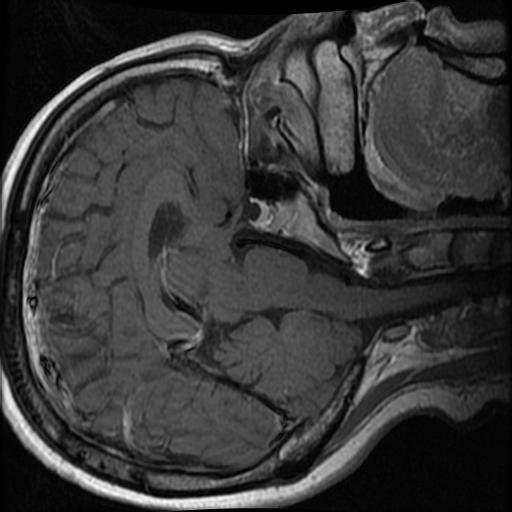pituitary tumour: (249, 198, 273, 228)
